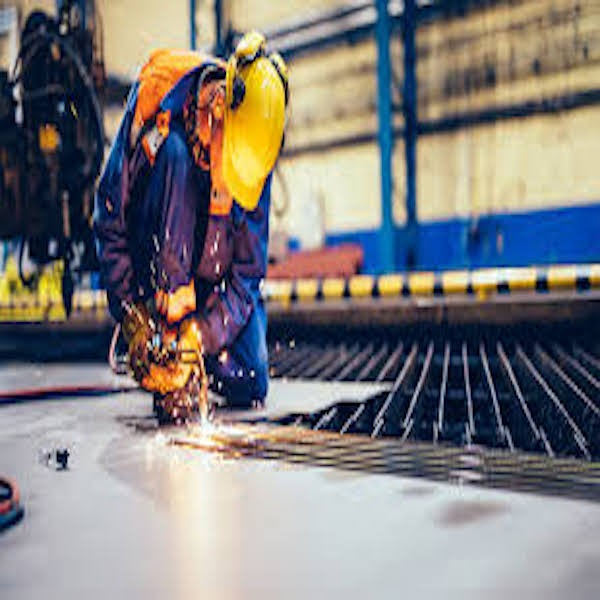heat: (168, 391, 243, 447)
helmet: (216, 31, 293, 205)
vest: (129, 50, 207, 290)
